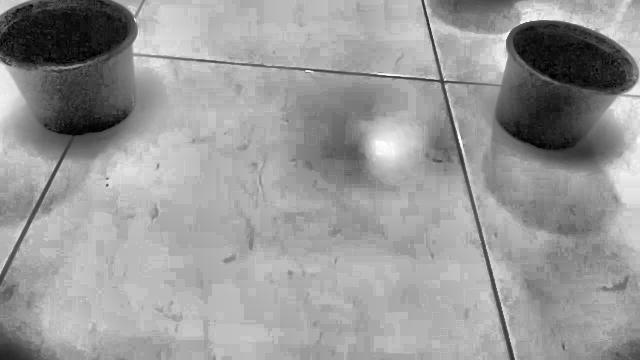pot: (495, 20, 640, 150), (0, 0, 137, 136)
